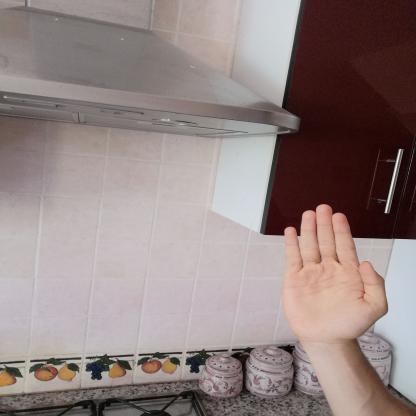SEEN: (271, 199, 396, 356)
